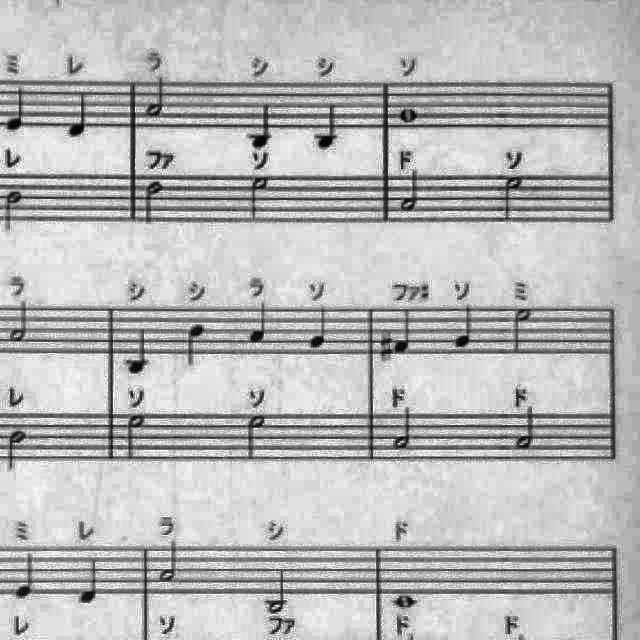Diez: (377, 331, 395, 365)
Full-note: (388, 590, 419, 614), (394, 104, 422, 126)
Half-note: (263, 564, 295, 616), (242, 411, 270, 467), (124, 408, 152, 464), (138, 176, 168, 228), (156, 536, 184, 588), (500, 173, 528, 225), (246, 172, 274, 224), (4, 427, 32, 478), (510, 302, 538, 353), (512, 403, 540, 453), (5, 296, 33, 346), (392, 402, 420, 452), (396, 166, 424, 216), (0, 187, 26, 237), (143, 72, 169, 120)
Quarter-note: (122, 322, 154, 378), (74, 554, 104, 610), (10, 546, 40, 602), (313, 98, 342, 154), (247, 100, 277, 152), (64, 88, 92, 140), (2, 83, 30, 135), (184, 321, 212, 371), (390, 306, 416, 358), (245, 298, 272, 348), (306, 302, 332, 352), (451, 301, 477, 351)
